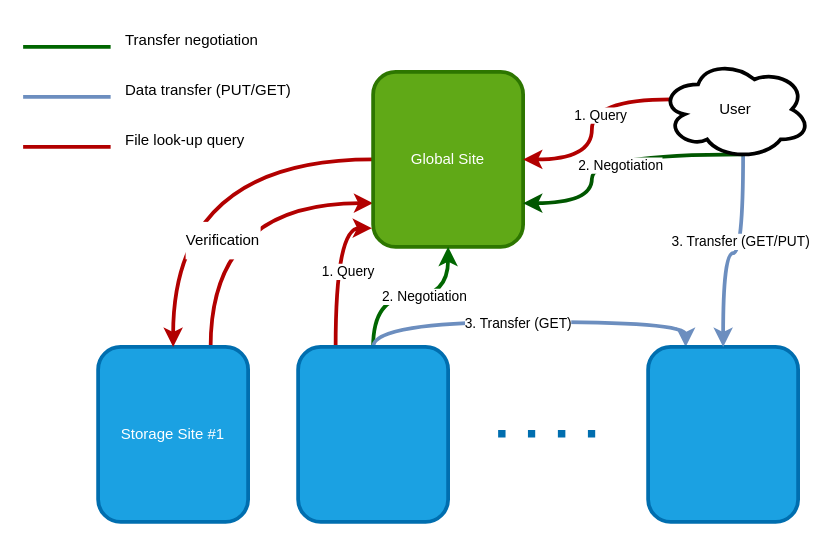
Image size: 834x545. Some labels were removed from this diagram. The shapes that lost their labels are listed below. From the top down, each one's box as (x1, y1, x2, y2) in pixels, then its label:
(296, 344, 449, 523): Storage Site #2
(646, 344, 799, 523): Storage Site #N
